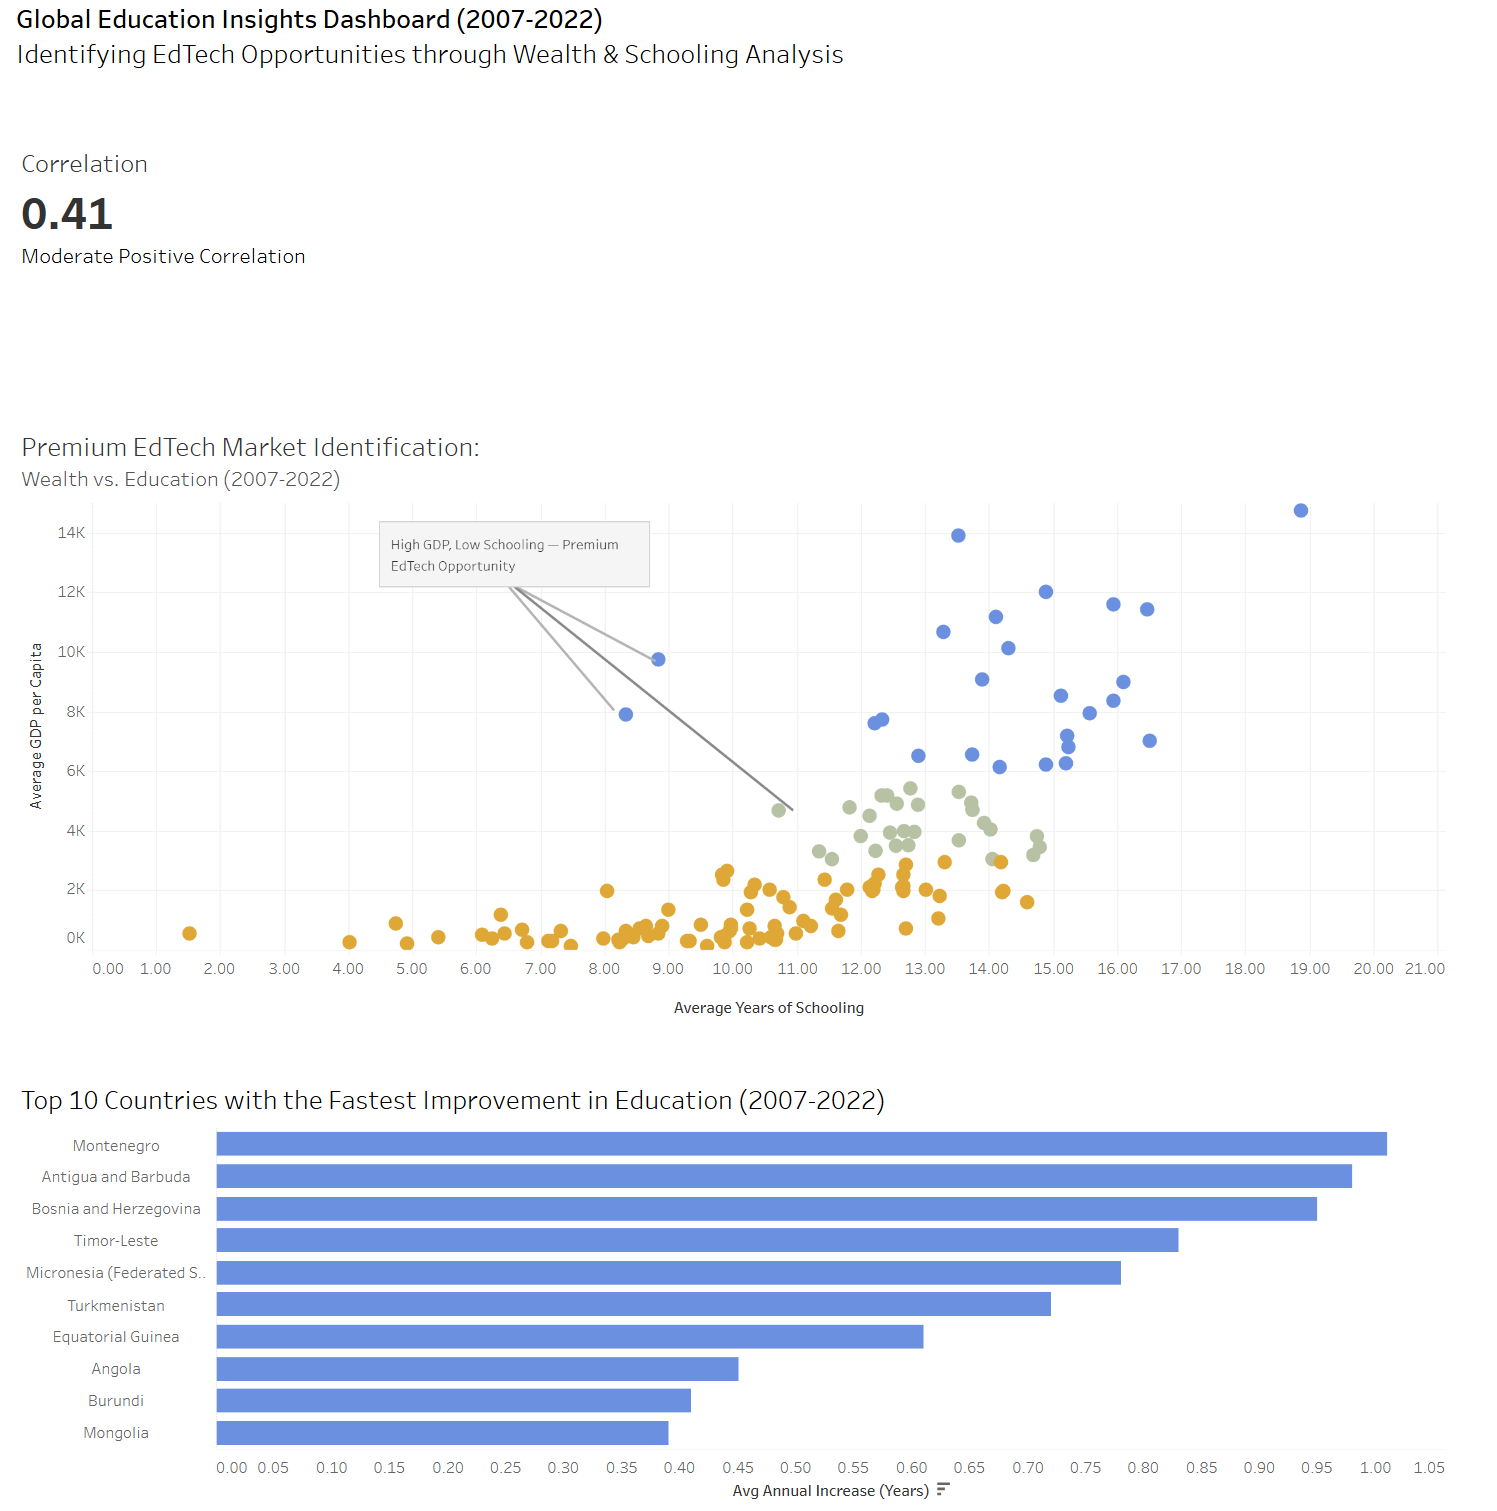

The page's visual inventory and layout, read from the dashboard file:
{"tool":"tableau","page":{"name":"Dashboard 1","canvas":[1200,1500],"ordinal":0},"visuals":[{"type":"blank","box":[8,8,1184,32]},{"type":"text","box":[8,40,1184,133]},{"type":"worksheet","title":"Correlation","mark":"Automatic","box":[8,173,343,226]},{"type":"blank","box":[351,173,841,226]},{"type":"worksheet","title":"WealthVSEdu","mark":"Automatic","rows":["avg_GDP"],"cols":["avg_schooling"],"box":[8,399,1184,523]},{"type":"worksheet","title":"Top Improve","mark":"Bar","rows":["Country"],"cols":["avg_annual_increase"],"box":[8,922,1184,386]},{"type":"text","box":[8,1308,1184,184]}]}

Visuals, with their boxes on the page's 1200x1500 design canvas (x1, y1, x2, y2). These are canvas units, not pixel positions in the 1497x1511 screenshot, which may show the page scaled, cropped or inside an application window:
blank: (8,8,1192,40)
text: (8,40,1192,173)
"Correlation" worksheet: (8,173,351,399)
blank: (351,173,1192,399)
"WealthVSEdu" worksheet: (8,399,1192,922)
"Top Improve" worksheet (Bar marks): (8,922,1192,1308)
text: (8,1308,1192,1492)
